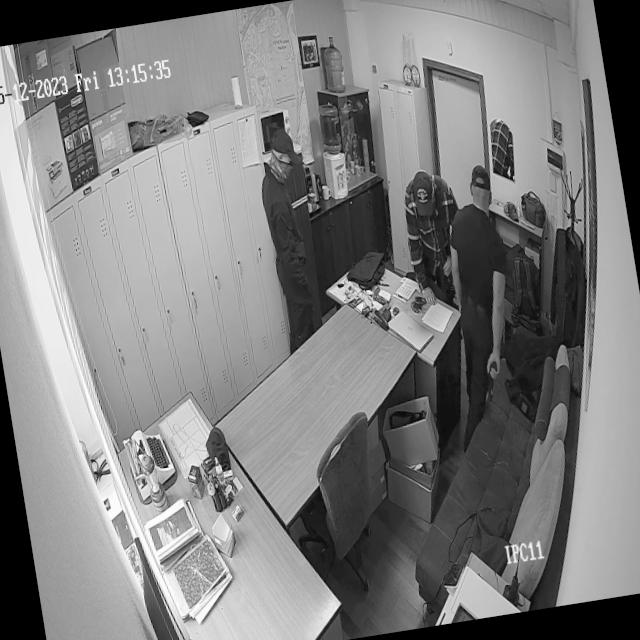gun: (436, 224, 464, 344), (481, 354, 506, 400)
person: (249, 119, 324, 348)
person with a gun: (437, 166, 532, 451), (398, 172, 478, 332)
